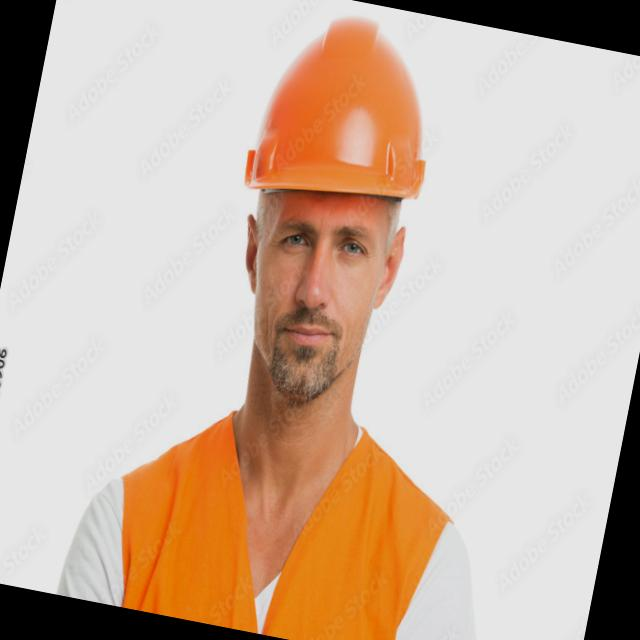helmet: (237, 0, 455, 229)
no-goggles: (243, 204, 400, 286)
vest: (93, 385, 472, 640)
